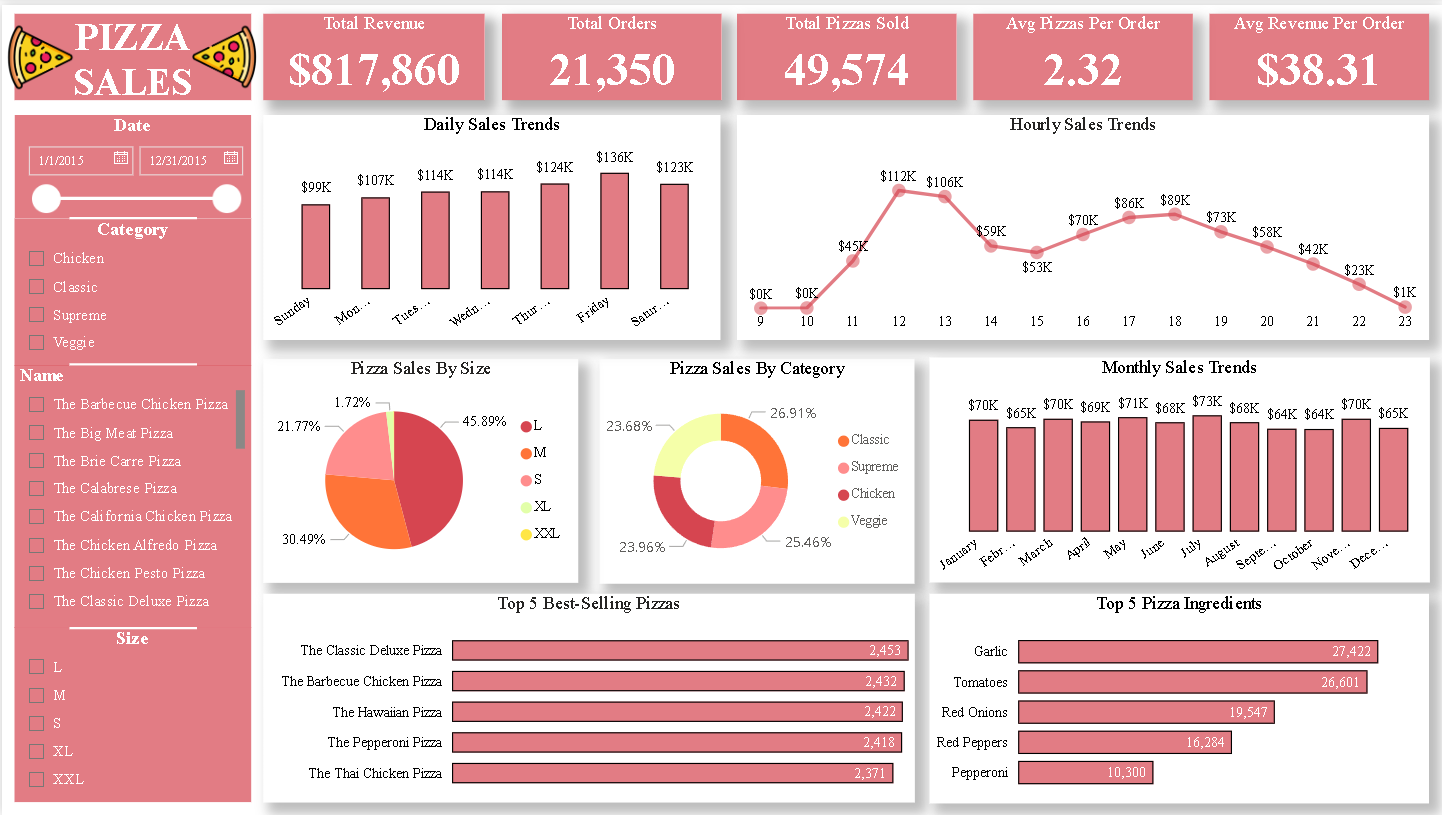

The page's visual inventory and layout, read from the dashboard file:
{"tool":"powerbi","page":{"name":"Page 1","canvas":[1280,720],"ordinal":0},"visuals":[{"type":"card","title":"Total Revenue","fields":{"Values":["Sum(pizza_sales.total_price)"]},"box":[232.2,7.8,196.7,77],"z":0},{"type":"card","title":"Total Orders","fields":{"Values":["Count(pizza_sales.order_id)"]},"box":[444.4,7.8,195.6,77],"z":1000},{"type":"card","title":"Total Pizzas Sold","fields":{"Values":["Sum(pizza_sales.quantity)"]},"box":[653.3,7.8,195.6,77],"z":2000},{"type":"donutChart","title":"Pizza Sales By Category","fields":{"Category":["pizza_sales.pizza_category"],"Y":["Sum(pizza_sales.total_price)"]},"box":[531.1,314.4,280,200],"z":3000},{"type":"pieChart","title":"Pizza Sales By Size","fields":{"Category":["pizza_sales.pizza_size"],"Y":["Sum(pizza_sales.total_price)"]},"box":[232.2,314.4,280,198.9],"z":4000},{"type":"card","title":"Avg Pizzas Per Order","fields":{"Values":["pizza_sales.Avg Pizzas per Order"]},"box":[863.3,7.8,195.6,77],"z":6000},{"type":"card","title":"Avg Revenue Per Order","fields":{"Values":["pizza_sales.Avg Revenue Per Order"]},"box":[1073.3,7.8,195.6,77],"z":7000},{"type":"columnChart","title":"Daily Sales Trends","fields":{"Category":["pizza_sales.Day_of_week"],"Y":["Sum(pizza_sales.total_price)"]},"box":[232.7,97.3,406.4,200],"z":8000},{"type":"lineChart","title":"Hourly Sales Trends","fields":{"Category":["pizza_sales.Hour_of_time"],"Y":["Sum(pizza_sales.total_price)"]},"box":[653.6,97.3,615.5,200],"z":9000},{"type":"columnChart","title":"Monthly Sales Trends","fields":{"Category":["pizza_sales.order_date.Variation.Date Hierarchy.Month"],"Y":["Sum(pizza_sales.total_price)"]},"box":[824.4,313.3,444.4,200],"z":10000},{"type":"barChart","title":"Top 5 Best-Selling Pizzas","fields":{"Category":["pizza_sales.pizza_name"],"Y":["Sum(pizza_sales.quantity)"]},"box":[232.2,523.3,578.9,185.6],"z":11000},{"type":"slicer","title":"Date","fields":{"Values":["pizza_sales.order_date"]},"box":[11.1,97.8,210,92.2],"z":13000},{"type":"slicer","title":"Category","fields":{"Values":["pizza_sales.pizza_category"]},"box":[11.1,190,210,130],"z":14000},{"type":"slicer","title":"Size","fields":{"Values":["pizza_sales.pizza_size"]},"box":[11.1,553.3,210,155.6],"z":15000},{"type":"textbox","title":"PIZZA SALES","box":[11.1,7.8,210,76.7],"z":15001},{"type":"image","box":[163,8,69,77],"z":15002},{"type":"image","box":[0,8,69,77],"z":15003},{"type":"slicer","title":"Name","fields":{"Values":["pizza_sales.pizza_name"]},"box":[11.1,320,210,233.3],"z":15004},{"type":"shape","box":[60,183.3,113.3,12.2],"z":15005},{"type":"shape","box":[60,313.3,113.3,12.2],"z":15006},{"type":"shape","box":[60,547.8,113.3,12.2],"z":15007},{"type":"barChart","title":"Top 5 Pizza Ingredients","fields":{"Y":["CountNonNull(pizza_ingredient.order_id)"],"Category":["pizza_ingredient.pizza_ingredients"]},"box":[824,523,444,186],"z":15008}]}

Visuals, with their boxes in screenshot pixels (x1, y1, x2, y2), scaled from the page's 1280x720 canvas onto the 1442x815 screenshot:
"Total Revenue" card: Rect(262, 9, 483, 96)
"Total Orders" card: Rect(501, 9, 721, 96)
"Total Pizzas Sold" card: Rect(736, 9, 956, 96)
"Pizza Sales By Category" donutChart: Rect(598, 356, 914, 582)
"Pizza Sales By Size" pieChart: Rect(262, 356, 577, 581)
"Avg Pizzas Per Order" card: Rect(973, 9, 1193, 96)
"Avg Revenue Per Order" card: Rect(1209, 9, 1429, 96)
"Daily Sales Trends" columnChart: Rect(262, 110, 720, 337)
"Hourly Sales Trends" lineChart: Rect(736, 110, 1430, 337)
"Monthly Sales Trends" columnChart: Rect(929, 355, 1429, 581)
"Top 5 Best-Selling Pizzas" barChart: Rect(262, 592, 914, 802)
"Date" slicer: Rect(13, 111, 249, 215)
"Category" slicer: Rect(13, 215, 249, 362)
"Size" slicer: Rect(13, 626, 249, 802)
"PIZZA SALES" textbox: Rect(13, 9, 249, 96)
image: Rect(184, 9, 261, 96)
image: Rect(0, 9, 78, 96)
"Name" slicer: Rect(13, 362, 249, 626)
shape: Rect(68, 207, 195, 221)
shape: Rect(68, 355, 195, 368)
shape: Rect(68, 620, 195, 634)
"Top 5 Pizza Ingredients" barChart: Rect(928, 592, 1428, 803)
